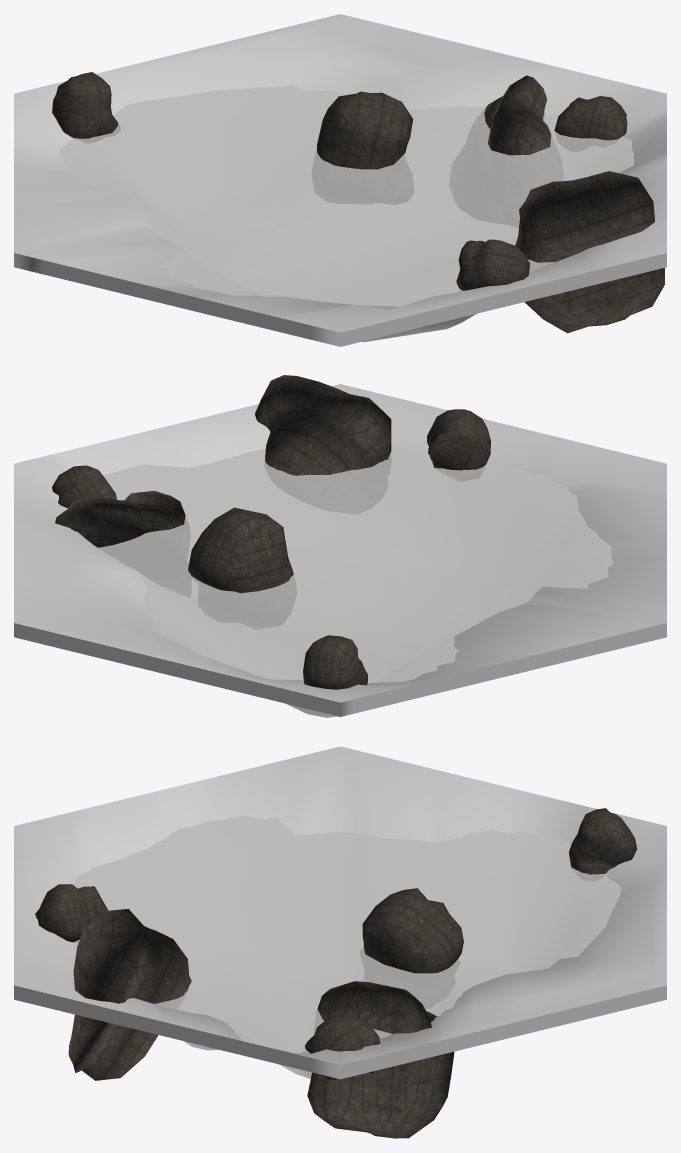
Rendered from pond_hex_05.fbx.
3 views of the same model, one above another, from view 1: azimuth 30°, elevation 25°; view 2: azimuth 150°, elevation 25°; view 3: azimuth 270°, elevation 25° (orthographic).
Visible parts, largest first — view 1: pCylinder2; view 2: pCylinder2; view 3: pCylinder2.
Part boxes in pixels (<box>): pCylinder2: <box>14,14,666,346</box>; pCylinder2: <box>14,375,666,717</box>; pCylinder2: <box>14,746,666,1138</box>.
Bounding box in the file's own units: 61.53 × 15.13 × 53.28.
